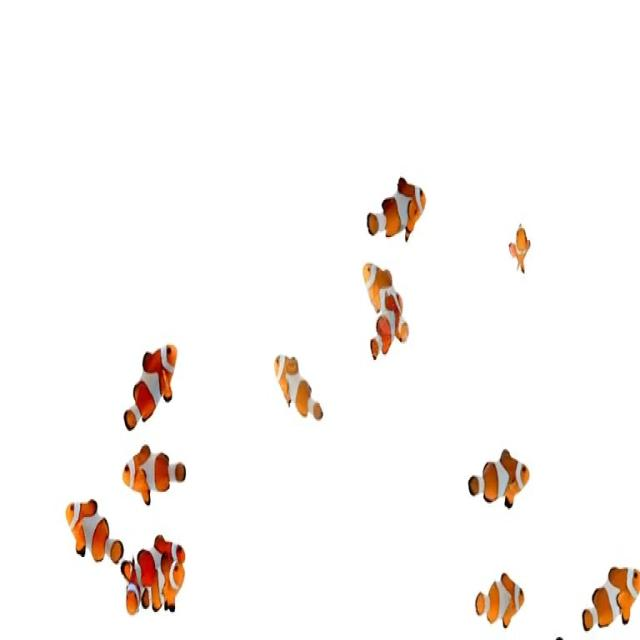fish: (111, 436, 195, 510), (121, 334, 178, 440), (461, 443, 534, 517), (580, 558, 640, 640), (272, 344, 328, 426), (362, 256, 416, 341), (366, 175, 428, 248), (65, 494, 126, 568), (469, 566, 529, 633), (118, 531, 189, 586), (153, 553, 200, 617), (370, 284, 402, 372), (509, 213, 533, 282), (120, 583, 143, 621)
